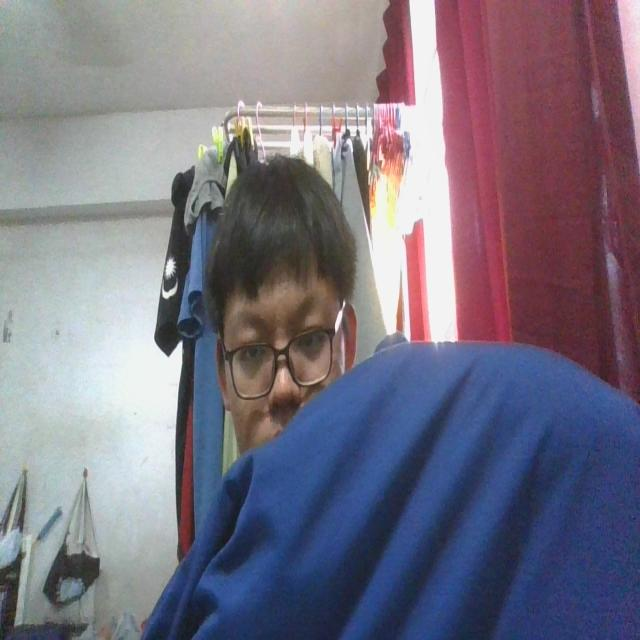person_without_labcoat: (143, 156, 640, 639)
